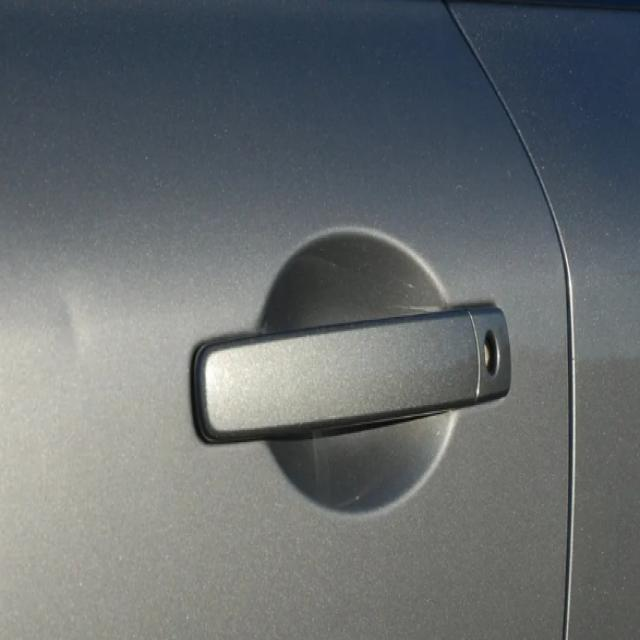dents: (38, 292, 121, 392)
